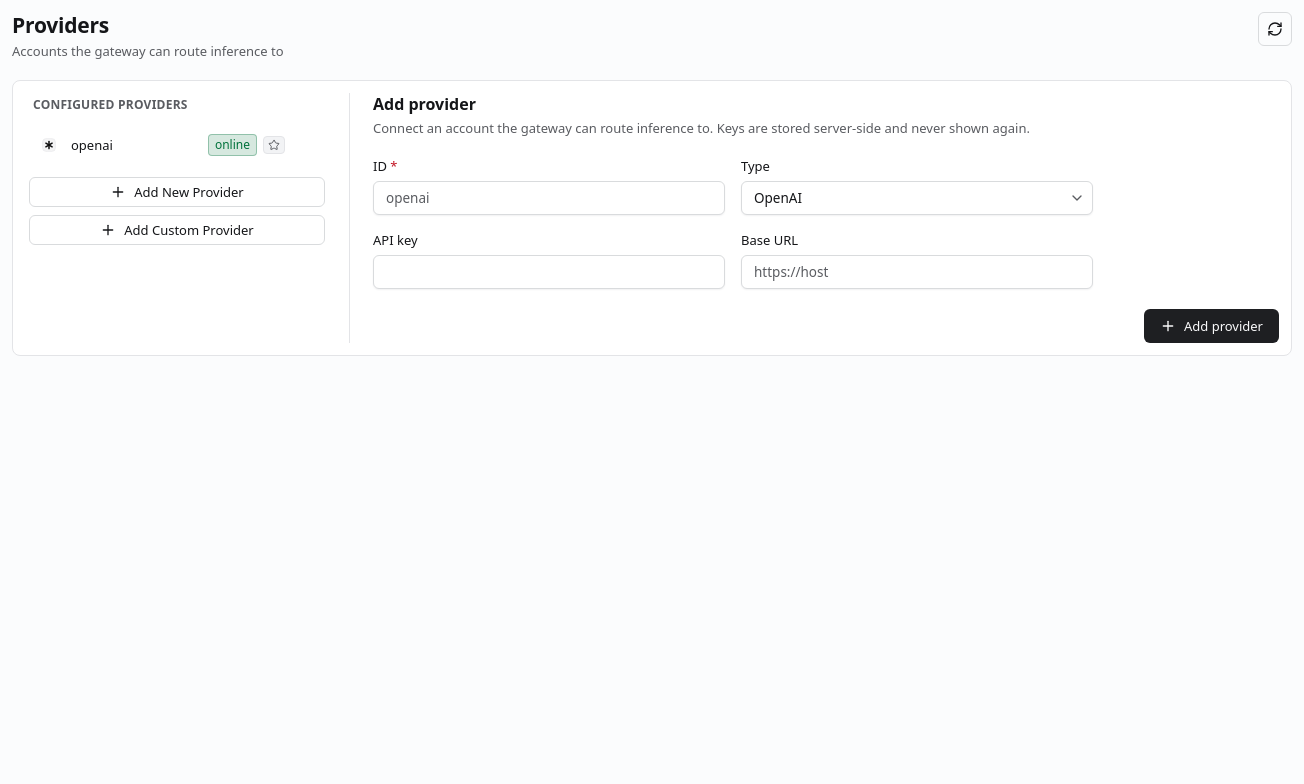
Test: ProvidersView 6-tab config panel › opens Network/Proxy/.../Debugging tabs with a sticky Save/Remove footer
Click the button "openai online": coordinates (92, 145) x1=25 y1=125 x2=295 y2=165
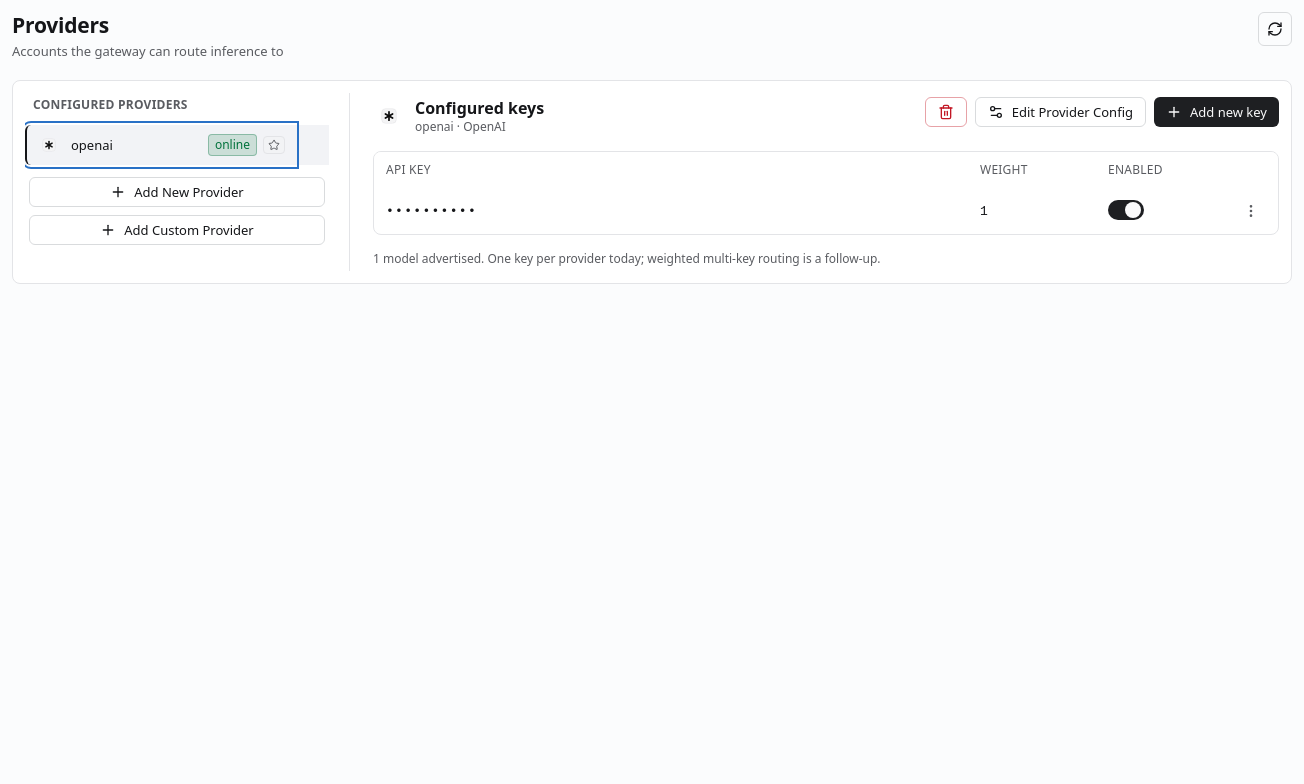
Click the button "Edit Provider Config": coordinates (1060, 112) x1=975 y1=97 x2=1146 y2=127
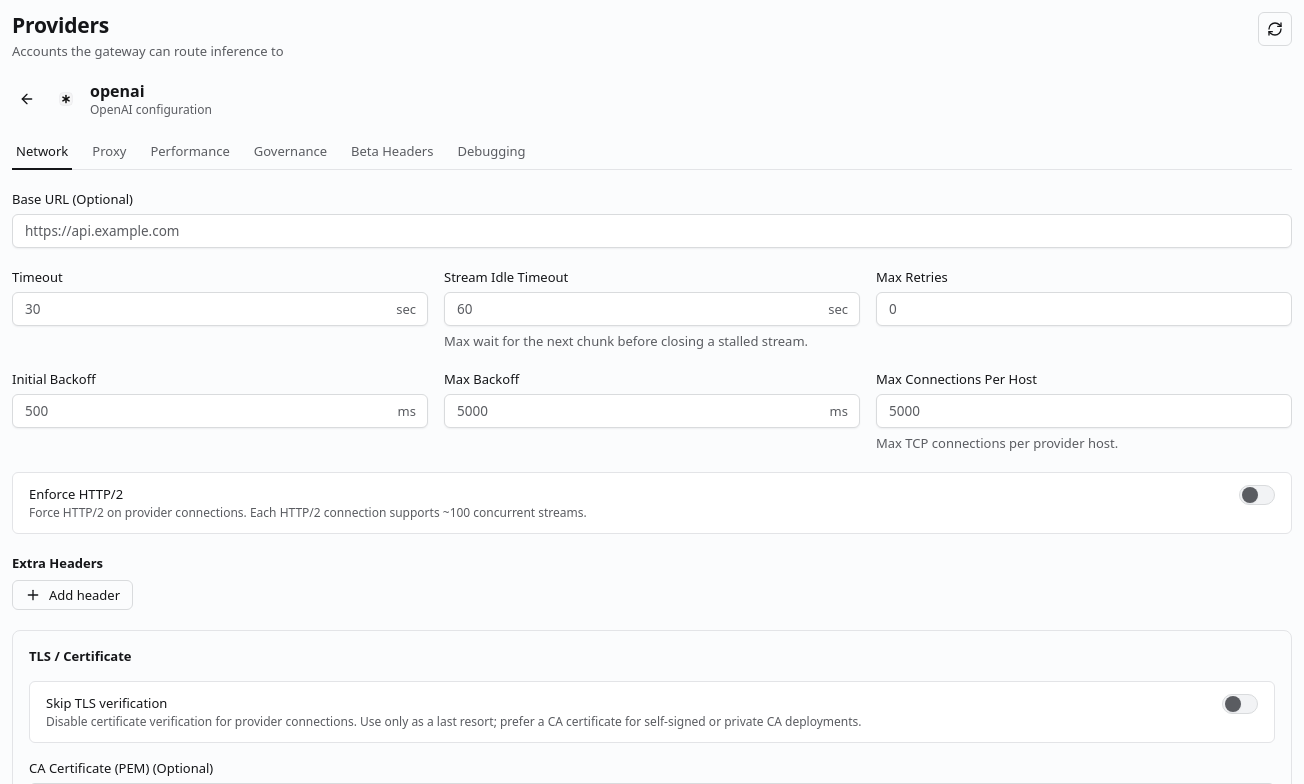
Check: the tab "Network" is shown, box x1=12 y1=134 x2=72 y2=170
Check: the tab "Proxy" is shown
Check: the tab "Performance" is shown, box x1=146 y1=134 x2=234 y2=170
# Proxy tab reveals the proxy URL secret re-entry.
Click the tab "Proxy": coordinates (109, 152) x1=88 y1=134 x2=130 y2=170
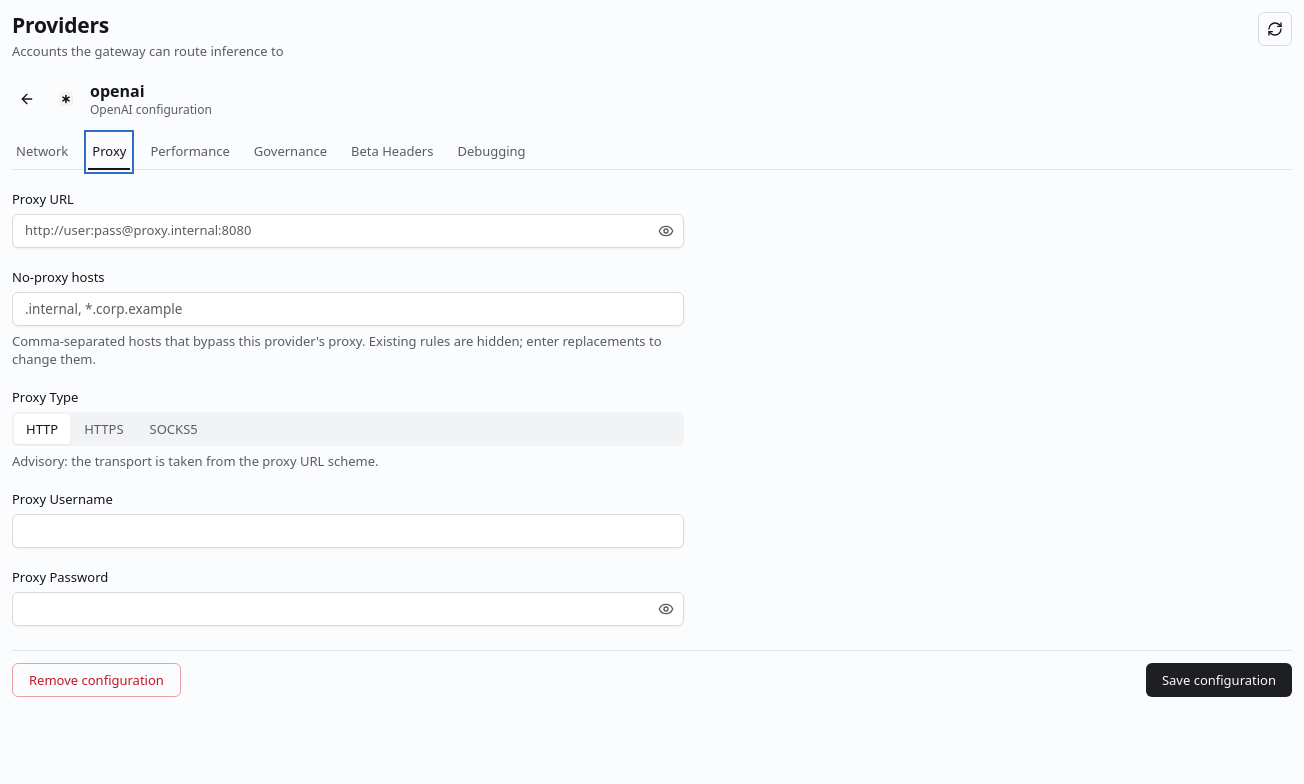
Check: the button "Save configuration" is shown, box x1=1146 y1=663 x2=1292 y2=697
Check: the button "Remove configuration" is shown, box x1=12 y1=663 x2=181 y2=697
Check: the password field labelled "Proxy URL" is shown, box x1=12 y1=214 x2=684 y2=248
